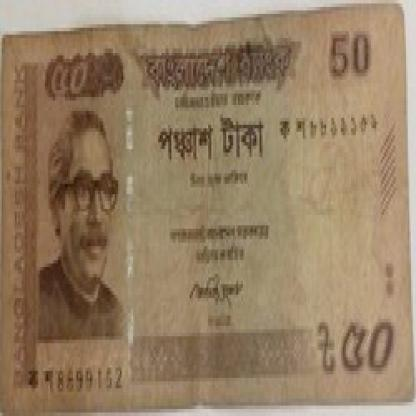Fifty taka: (323, 312, 404, 388), (40, 52, 101, 121)
